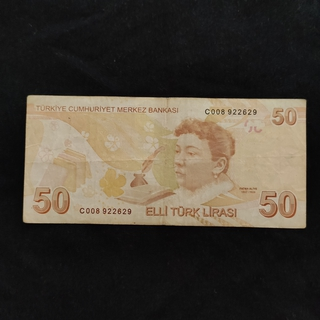50TLBack: (22, 94, 307, 229)
